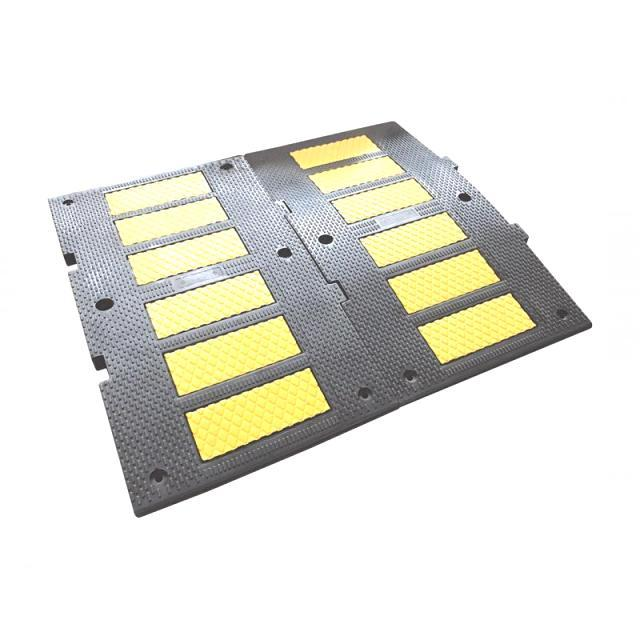speed-bump: (27, 96, 608, 528)
